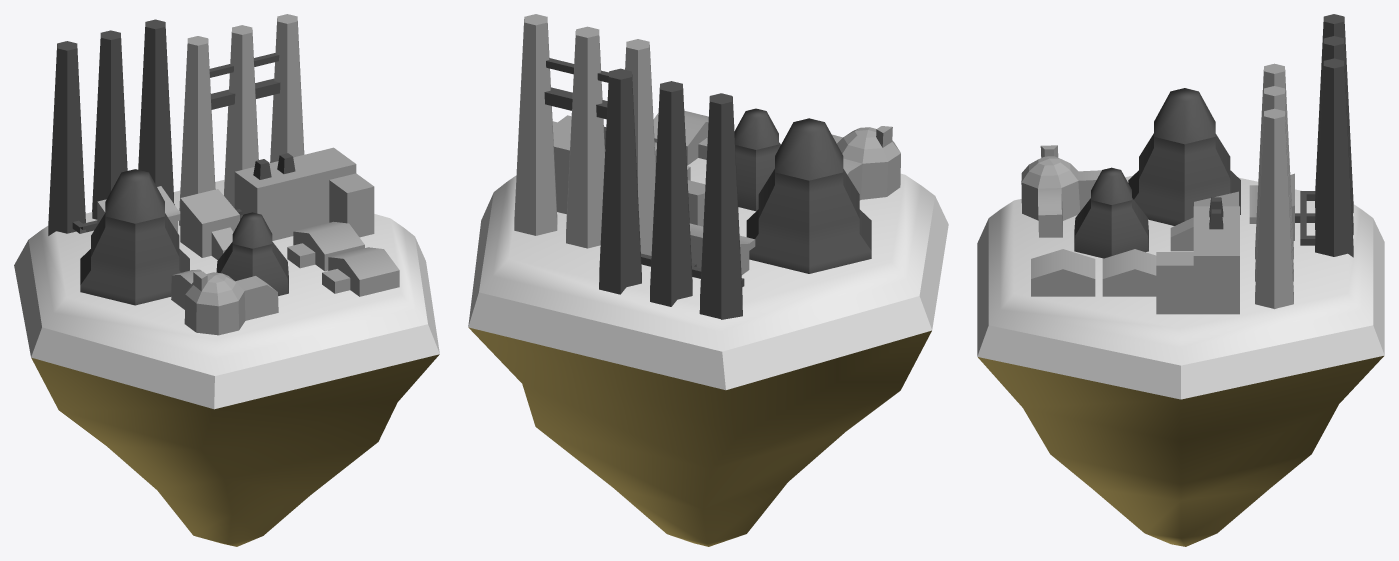
The model's file is industryCenter.fbx.
The picture shows the model from 3 angles, left to right: view 1: azimuth 30°, elevation 25°; view 2: azimuth 150°, elevation 25°; view 3: azimuth 270°, elevation 25°; orthographic projection. The views are drawn at different scales.
Parts seen in each view (by area): view 1: pasted__pCube8; view 2: pasted__pCube8; view 3: pasted__pCube8.
Part boxes in pixels (<box>): pasted__pCube8: <box>14,14,439,546</box>; pasted__pCube8: <box>468,14,948,546</box>; pasted__pCube8: <box>977,14,1384,546</box>.
Size of the model in its own units: 11.53 by 13.02 by 9.99.
